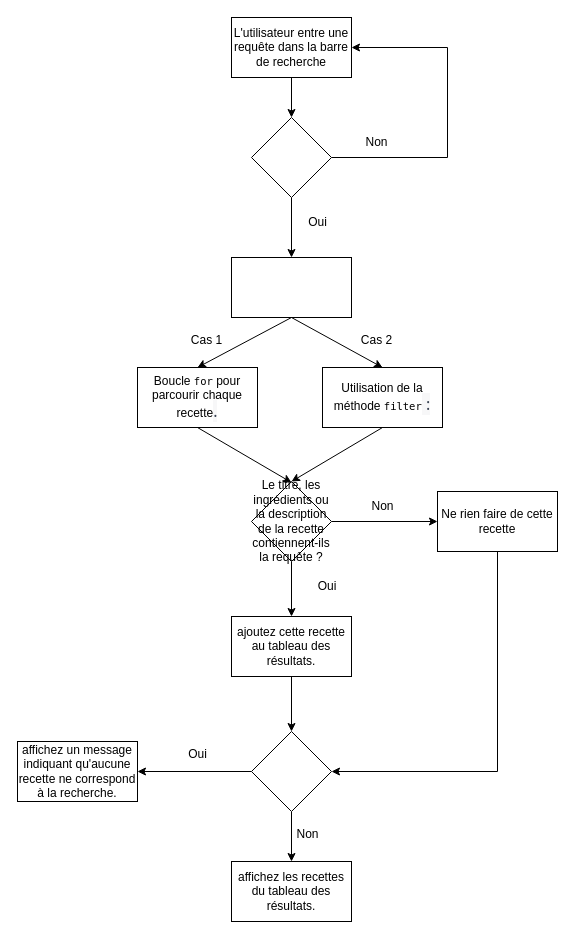
The diagram is 575 pixels wide and 939 high, and some of its shapes have lost their labels. The centre of each missing label's shape, as x and y in pixels:
"Initialisation d'un tableau vide pour les résultats ." belongs at [291,287].
"La requête a-t-elle au moins 3 caractères ?" belongs at [291,157].
"Le tableau des résultats est-il vide ?" belongs at [291,771].
